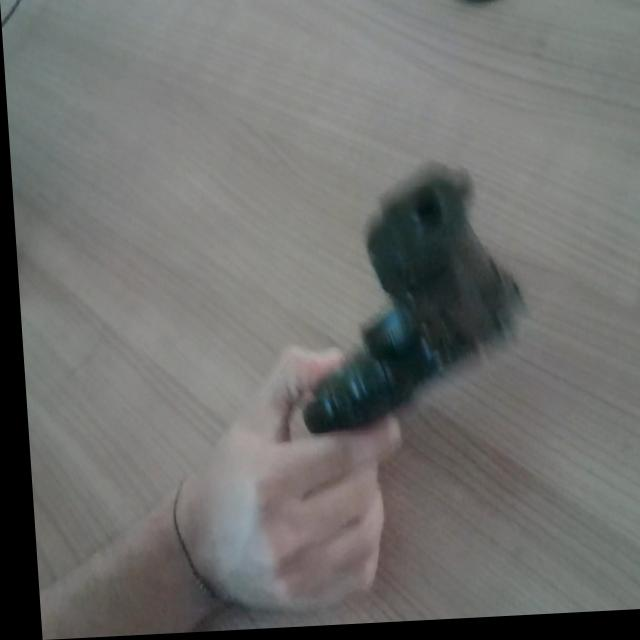handgun: (283, 147, 534, 430)
